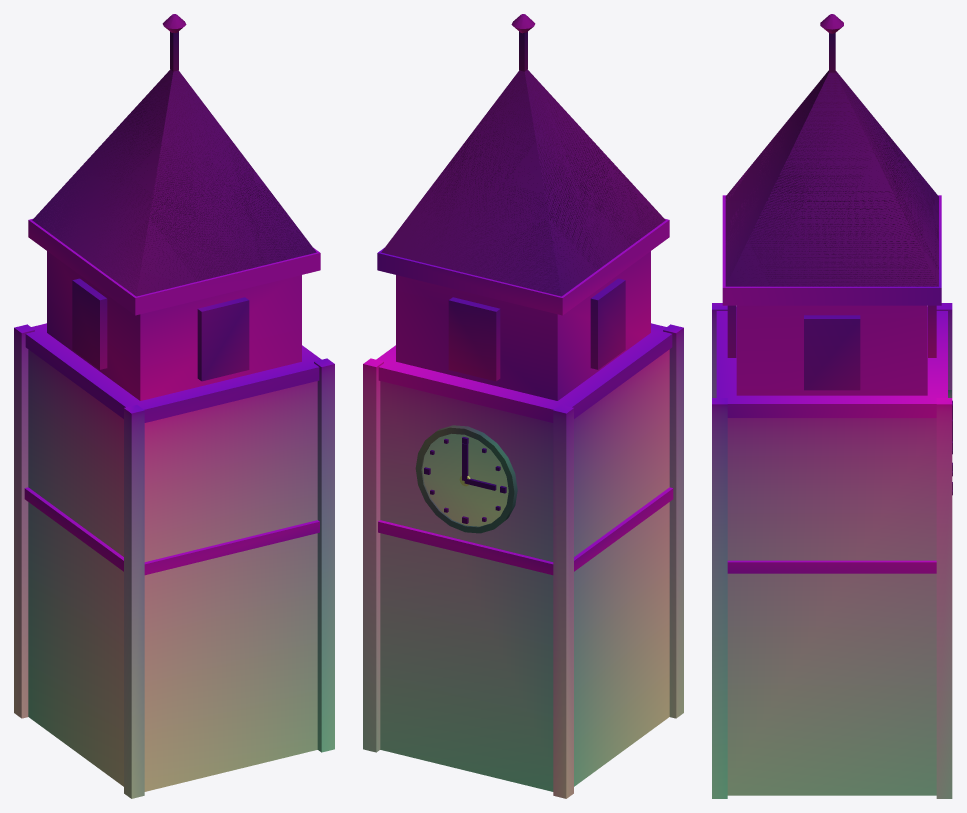
File: clock_tower.glb
The picture shows the model from 3 angles, left to right: view 1: azimuth 30°, elevation 25°; view 2: azimuth 150°, elevation 25°; view 3: azimuth 270°, elevation 25°; orthographic projection. The views are drawn at different scales.
Visible parts, largest first — view 1: shaft, trim, spire, louvres; view 2: shaft, trim, spire, louvres, dial, dial_bezel, hands; view 3: shaft, spire, trim, louvres.
Part boxes in pixels (x1,y1,x2,y2): shaft: [28, 251, 317, 791]; trim: [14, 219, 334, 798]; spire: [32, 69, 316, 296]; louvres: [72, 278, 249, 381]; shaft: [380, 251, 669, 791]; trim: [363, 219, 683, 798]; spire: [381, 69, 665, 296]; louvres: [448, 278, 625, 381]; dial: [422, 433, 508, 526]; dial_bezel: [415, 425, 517, 533]; hands: [424, 437, 506, 523]; shaft: [727, 305, 936, 795]; spire: [725, 70, 938, 286]; trim: [712, 195, 952, 798]; louvres: [727, 305, 936, 390].
Bounding box in the file's own units: 4.28 × 14.4 × 4.29.
